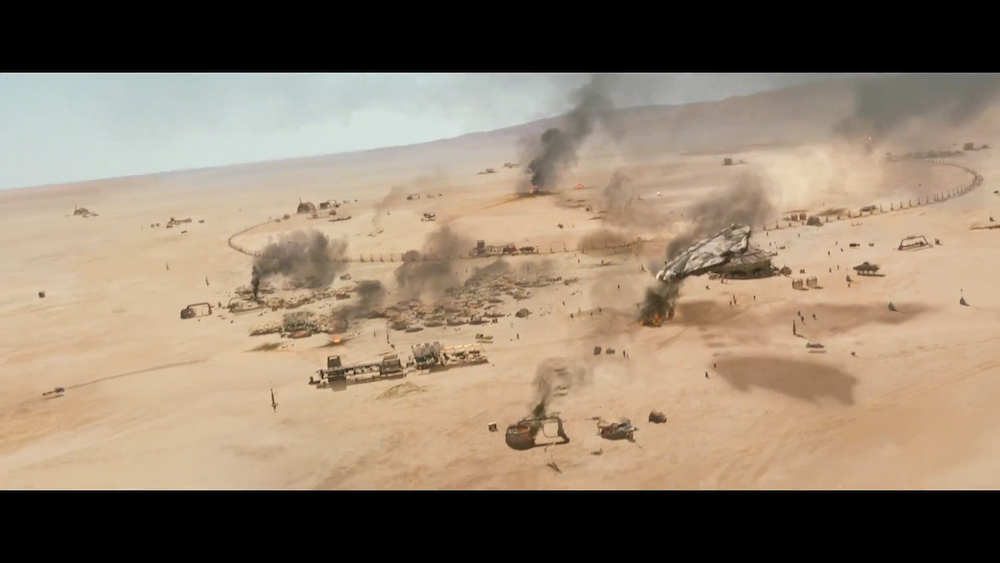Millennium Falcon: (658, 223, 751, 285)
